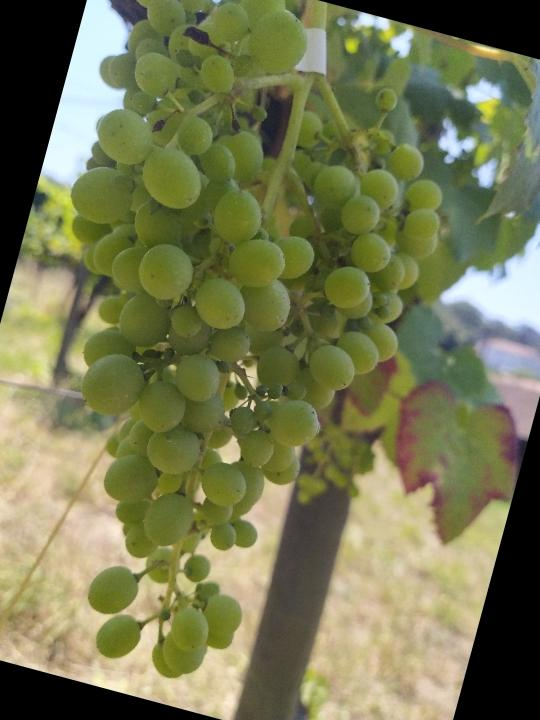grape: (0, 0, 492, 720)
